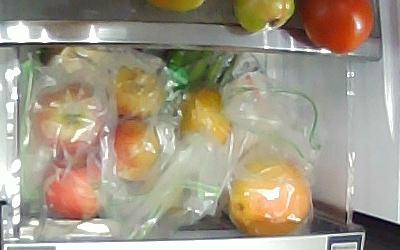apple_vinyl: (30, 81, 109, 154), (42, 152, 103, 217)
grapefruit_vinyl: (229, 157, 310, 237)
persimmon_vinyl: (178, 87, 234, 146)
prune_vinyl: (107, 120, 164, 182), (115, 65, 166, 120)
